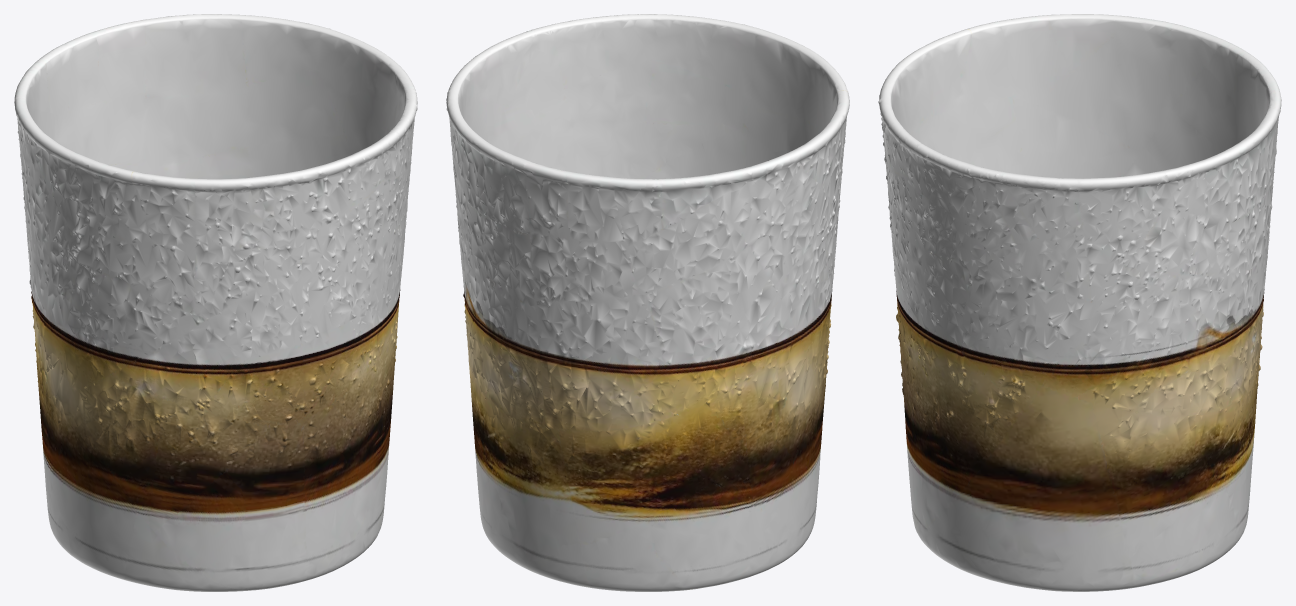
Rendered from old-fashioned.noice.glb.
3 renders of one model, left to right at view 1: azimuth 30°, elevation 25°; view 2: azimuth 150°, elevation 25°; view 3: azimuth 270°, elevation 25°, orthographic.
Visible parts, largest first — view 1: mesh_node; view 2: mesh_node; view 3: mesh_node.
Part boxes in pixels (x1,y1,x2,y2): mesh_node: (14,14,417,591); mesh_node: (446,14,849,591); mesh_node: (878,14,1281,591).
Size of the model in its own units: 0.0767 by 0.09 by 0.0768.
Materials: 1 (1 with a texture image).
